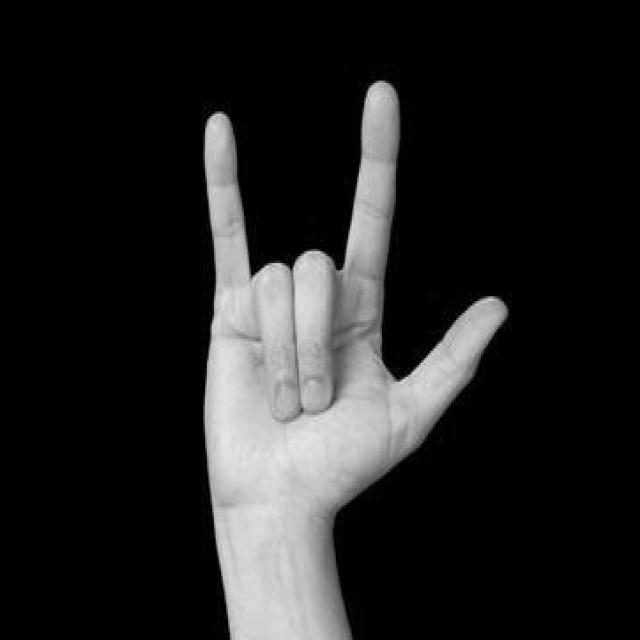i love you: (195, 72, 512, 599)
